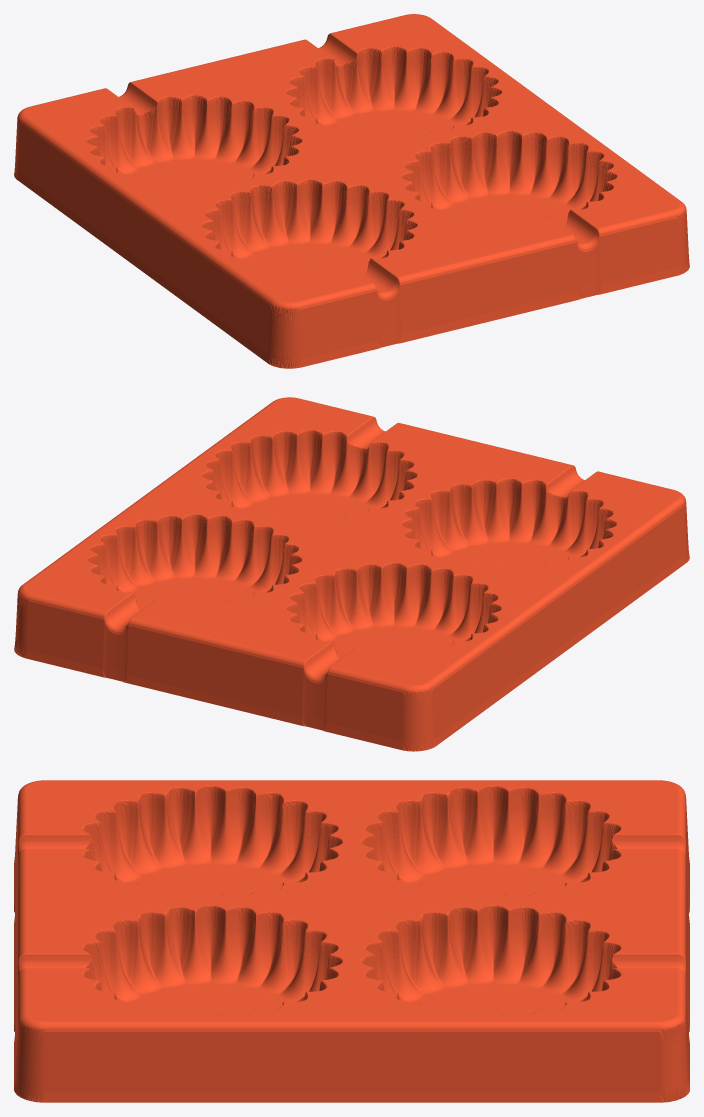
The model's file is mold.glb.
3 views of the same model, one above another, from view 1: azimuth 30°, elevation 25°; view 2: azimuth 150°, elevation 25°; view 3: azimuth 270°, elevation 25° (orthographic). The views are drawn at different scales.
Visible parts, largest first — view 1: geometry_0; view 2: geometry_0; view 3: geometry_0.
Boxes of the visible parts, x1,y1,x2,y2 form: geometry_0: (14,14,689,368); geometry_0: (14,397,689,751); geometry_0: (14,780,689,1102).
Size of the model in its own units: 0.1726 by 0.0245 by 0.1968.
